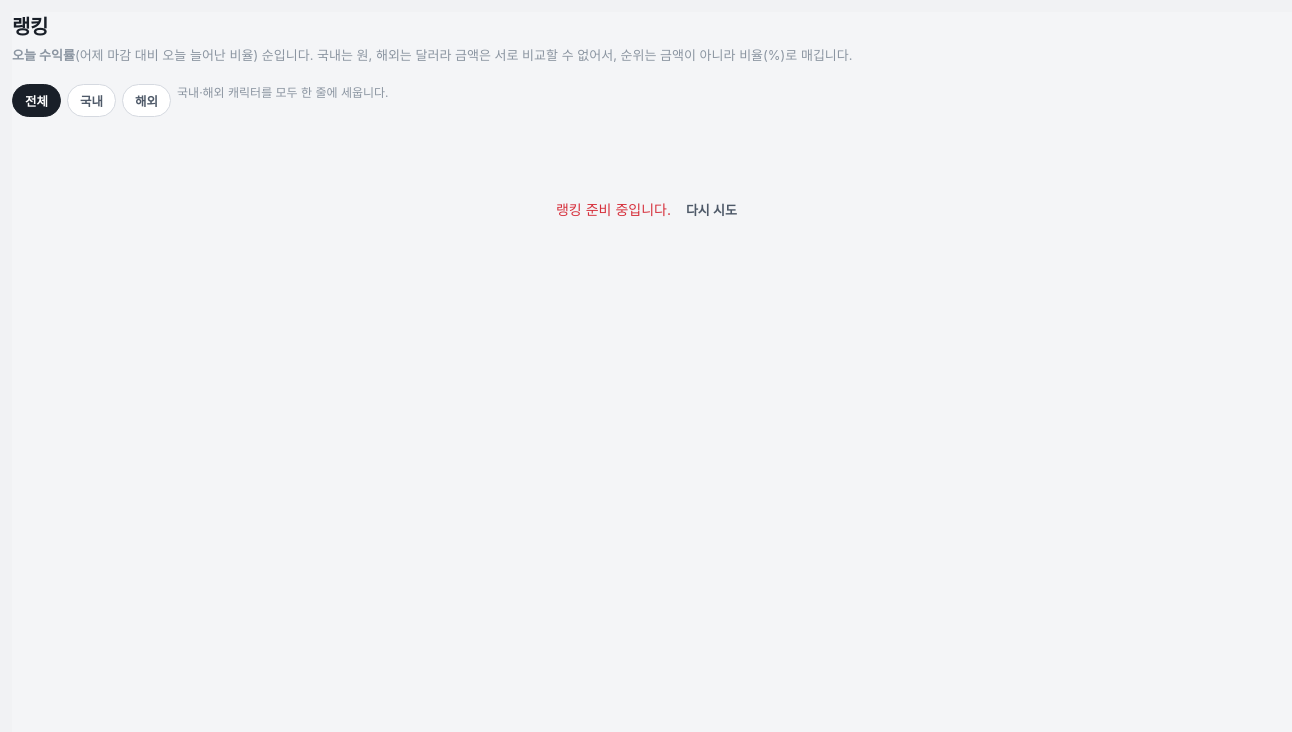
Test: 랭킹 화면 › 불러오기에 실패하면 이유와 '다시 시도'를 준다
Expected: the text "랭킹 준비 중입니다. 다시 시도" is shown, [556,192,748,226]
Click the button "다시 시도": coordinates (711, 209) [675,192,748,226]
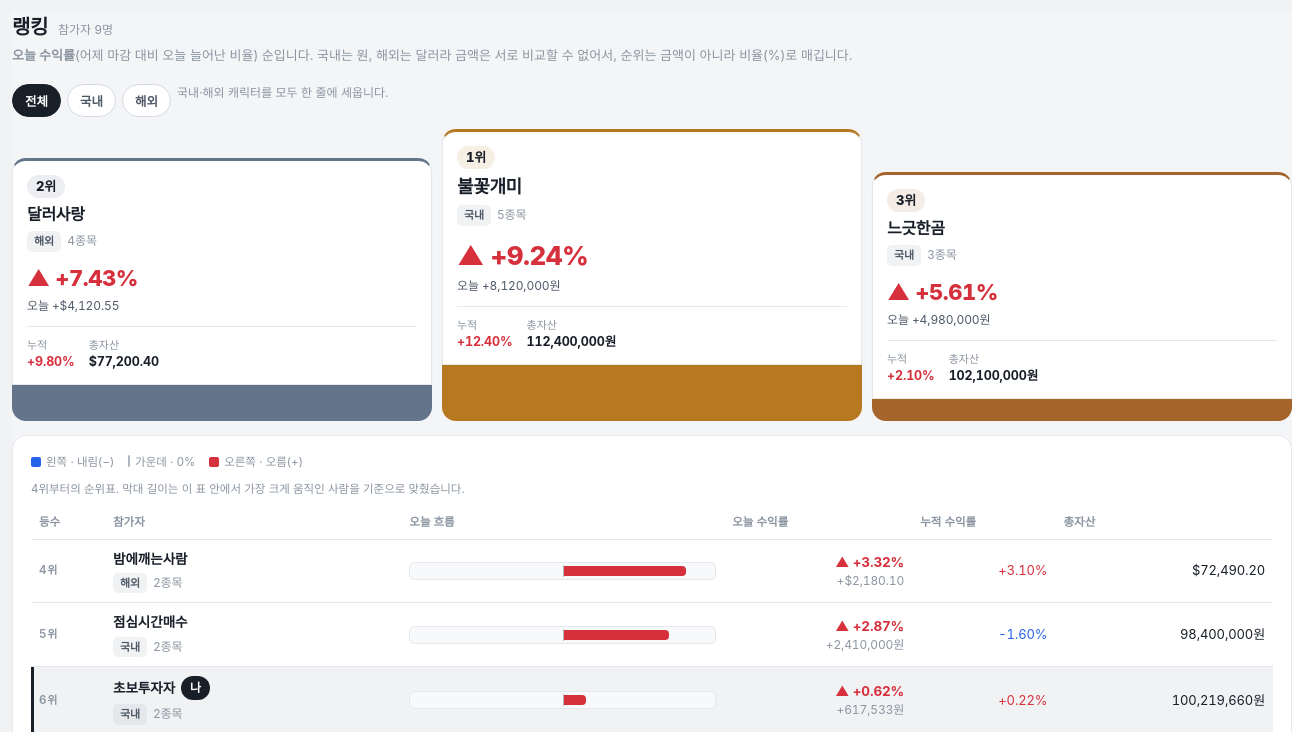
Result: the text "불꽃개미" is shown at [457,176,522,197]
